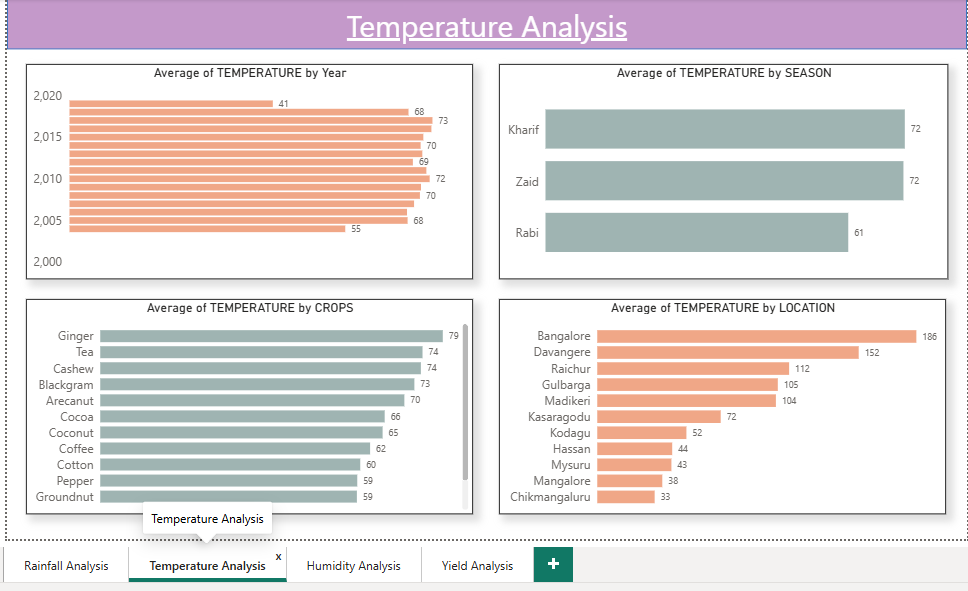

This screenshot's page, from the dashboard's own definition file:
{"tool":"powerbi","page":{"name":"Temperature Analysis","canvas":[1280,720],"ordinal":1},"visuals":[{"type":"shape","box":[0,0,1280,67.1],"z":0},{"type":"barChart","fields":{"Category":["AGRICULTURE.YEAR"],"Y":["Avg(AGRICULTURE.TEMPERATURE)"]},"box":[25.7,87.1,595.7,287.1],"z":1000},{"type":"barChart","fields":{"Category":["AGRICULTURE.SEASON"],"Y":["Avg(AGRICULTURE.TEMPERATURE)"]},"box":[655.7,87.1,598.6,287.1],"z":2000},{"type":"barChart","fields":{"Category":["AGRICULTURE.CROPS"],"Y":["Avg(AGRICULTURE.TEMPERATURE)"]},"box":[25.7,400,595.7,287.1],"z":3000},{"type":"barChart","fields":{"Y":["Avg(AGRICULTURE.TEMPERATURE)"],"Category":["AGRICULTURE.LOCATION"]},"box":[655.7,400,595.7,287.1],"z":4000}]}

Visuals, with their boxes on the page's 1280x720 design canvas (x1, y1, x2, y2). These are canvas units, not pixel positions in the 968x591 screenshot, which may show the page scaled, cropped or inside an application window:
shape: x1=0 y1=0 x2=1280 y2=67
barChart - AGRICULTURE.YEAR x Avg(AGRICULTURE.TEMPERATURE): x1=26 y1=87 x2=621 y2=374
barChart - AGRICULTURE.SEASON x Avg(AGRICULTURE.TEMPERATURE): x1=656 y1=87 x2=1254 y2=374
barChart - AGRICULTURE.CROPS x Avg(AGRICULTURE.TEMPERATURE): x1=26 y1=400 x2=621 y2=687
barChart - Avg(AGRICULTURE.TEMPERATURE) x AGRICULTURE.LOCATION: x1=656 y1=400 x2=1251 y2=687
